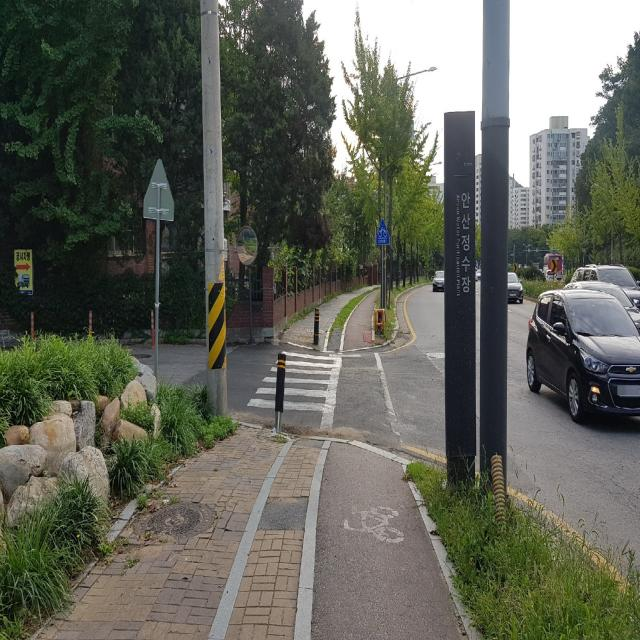횡단보도: (245, 349, 342, 412)
